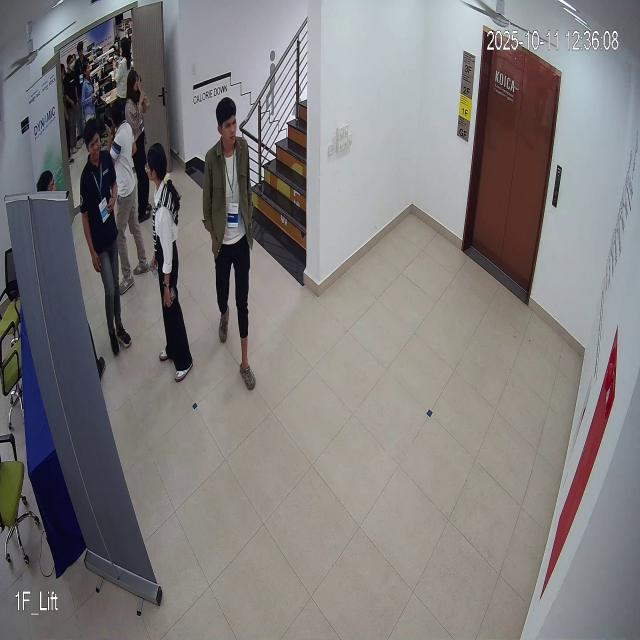face: (215, 94, 245, 152), (83, 118, 104, 162)
